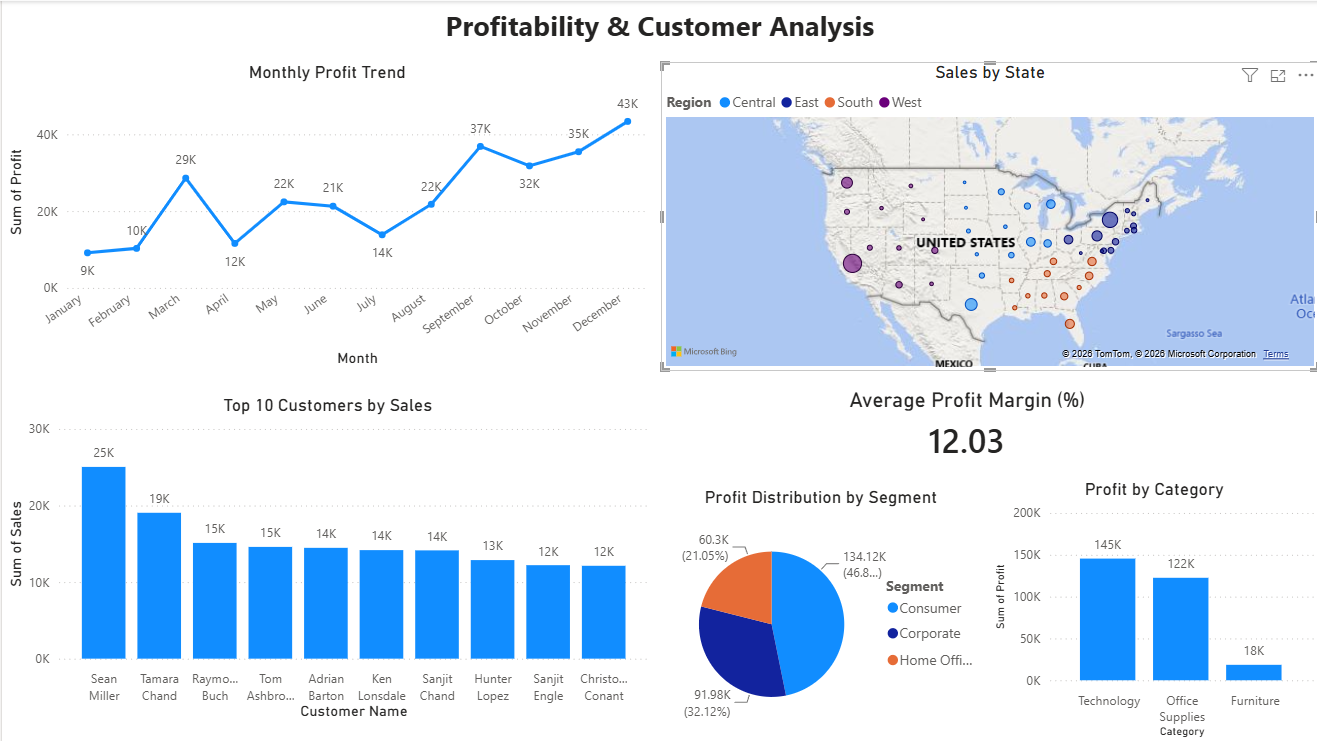

The page's visual inventory and layout, read from the dashboard file:
{"tool":"powerbi","page":{"name":"Profitability & Customer Analysis","canvas":[1280,720],"ordinal":1},"visuals":[{"type":"textbox","box":[57.4,0,1164.3,47.7],"z":0},{"type":"cardVisual","title":"Average Profit Margin (%)","fields":{"Data":["Avg(public sales.Profit Margin)"]},"box":[816.4,375.2,243,89.5],"z":1000},{"type":"lineChart","title":"Monthly Profit Trend","fields":{"Category":["public sales.Order Date.Variation.Date Hierarchy.Year","public sales.Order Date.Variation.Date Hierarchy.Month"],"Y":["Sum(public sales.Profit)"]},"box":[0,59.3,632.2,300.5],"z":2000},{"type":"clusteredColumnChart","title":"Profit by Category","fields":{"Y":["Sum(public sales.Profit)"],"Category":["public sales.Category"]},"box":[960.2,464.6,319.8,255.6],"z":3000},{"type":"columnChart","title":"Top 10 Customers by Sales","fields":{"Category":["public sales.Customer Name"],"Y":["Sum(public sales.Sales)"]},"box":[0,383.3,633.4,320.3],"z":4000},{"type":"pieChart","title":"Profit Distribution by Segment","fields":{"Category":["public sales.Segment"],"Y":["Sum(public sales.Profit)"]},"box":[631.7,472.3,328.5,247.8],"z":5000},{"type":"map","title":"Sales by State","fields":{"Category":["public sales.State"],"Size":["Sum(public sales.Sales)"],"Series":["public sales.Region"]},"box":[640,59.3,640,300.5],"z":6000}]}

Visuals, with their boxes in screenshot pixels (x1, y1, x2, y2), scaled from the page's 1280x720 canvas onto the 1317x741 screenshot:
textbox: x1=59 y1=0 x2=1257 y2=49
"Average Profit Margin (%)" cardVisual: x1=840 y1=386 x2=1090 y2=478
"Monthly Profit Trend" lineChart: x1=0 y1=61 x2=650 y2=370
"Profit by Category" clusteredColumnChart: x1=988 y1=478 x2=1316 y2=740
"Top 10 Customers by Sales" columnChart: x1=0 y1=394 x2=652 y2=724
"Profit Distribution by Segment" pieChart: x1=650 y1=486 x2=988 y2=740
"Sales by State" map: x1=658 y1=61 x2=1316 y2=370
